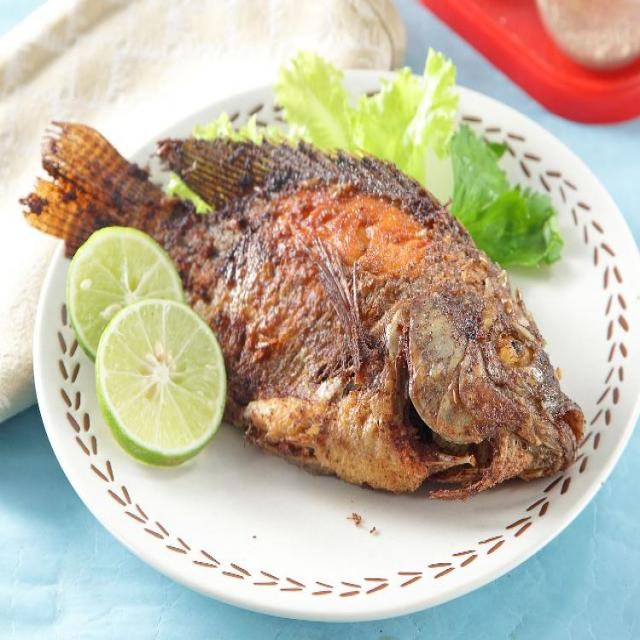ikan goreng: (25, 118, 587, 498)
